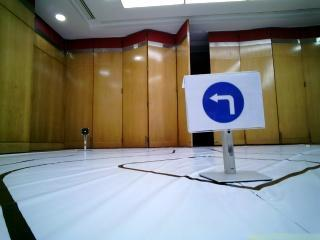left: (185, 75, 263, 128)
